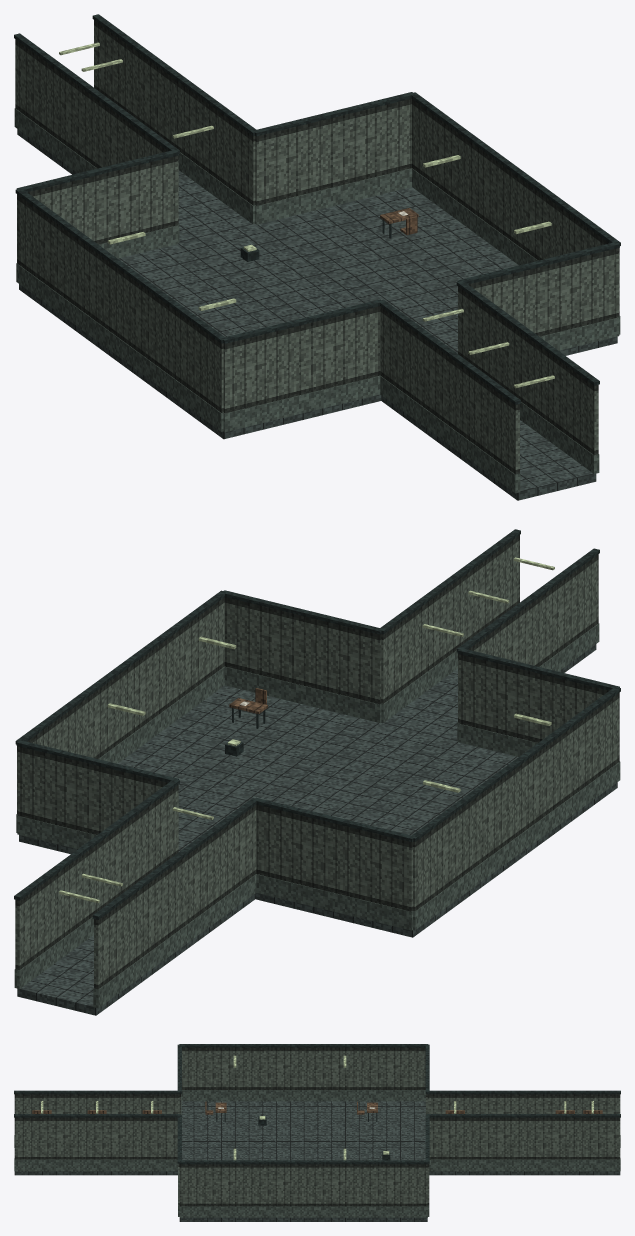
Rendered from FERI_Route_A.fbx.
3 renders of one model, top to bottom at view 1: azimuth 30°, elevation 25°; view 2: azimuth 150°, elevation 25°; view 3: azimuth 270°, elevation 25°, orthographic. The views are drawn at different scales.
Visible parts, largest first — view 1: PL_Route_A_Wall, PL_Route_A_Floor, PL_Route_A_Concrete, PL_Route_A_Iron, PL_Route_A_Tube; view 2: PL_Route_A_Wall, PL_Route_A_Floor, PL_Route_A_Concrete, PL_Route_A_Iron, PL_Route_A_Tube; view 3: PL_Route_A_Wall, PL_Route_A_Floor, PL_Route_A_Concrete, PL_Route_A_Iron, PL_Route_A_Wood, PL_Route_A_Tube.
Boxes of the visible parts, box(x1,y1,x2,y2) form: PL_Route_A_Wall: box(15, 20, 619, 474); PL_Route_A_Floor: box(17, 129, 617, 500); PL_Route_A_Concrete: box(14, 108, 620, 493); PL_Route_A_Iron: box(14, 14, 620, 404); PL_Route_A_Tube: box(59, 42, 554, 388); PL_Route_A_Wall: box(15, 535, 619, 989); PL_Route_A_Floor: box(17, 644, 617, 1015); PL_Route_A_Concrete: box(14, 623, 620, 1008); PL_Route_A_Iron: box(14, 529, 620, 919); PL_Route_A_Tube: box(59, 557, 554, 903); PL_Route_A_Wall: box(14, 1047, 620, 1206); PL_Route_A_Floor: box(14, 1101, 620, 1221); PL_Route_A_Concrete: box(14, 1090, 620, 1217); PL_Route_A_Iron: box(14, 1044, 620, 1164); PL_Route_A_Wood: box(32, 1101, 602, 1114); PL_Route_A_Tube: box(41, 1055, 593, 1160).
Size of the model in its own units: 20.3 by 4.86 by 44.08.
8 materials, 8 textured.
